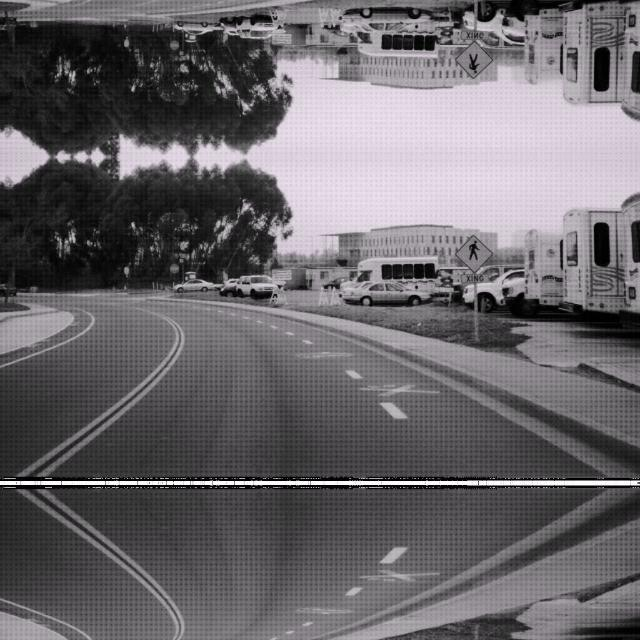pedestrianCrossing: (455, 232, 493, 270), (455, 42, 493, 80)
